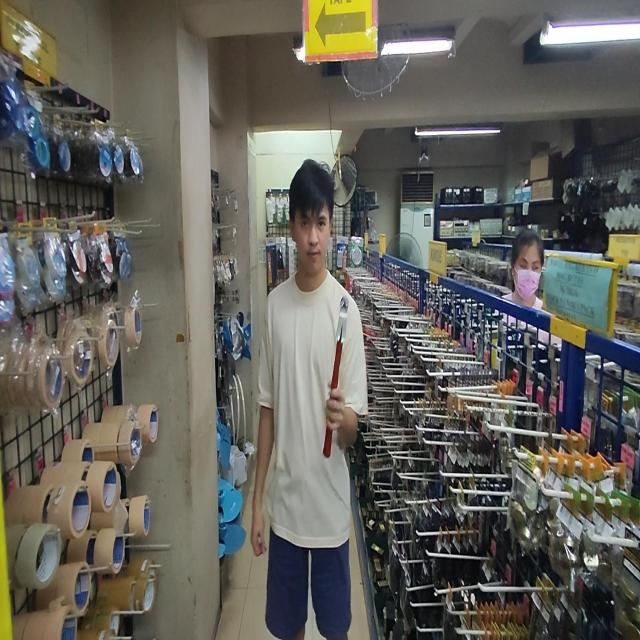hammer: (323, 295, 349, 458)
